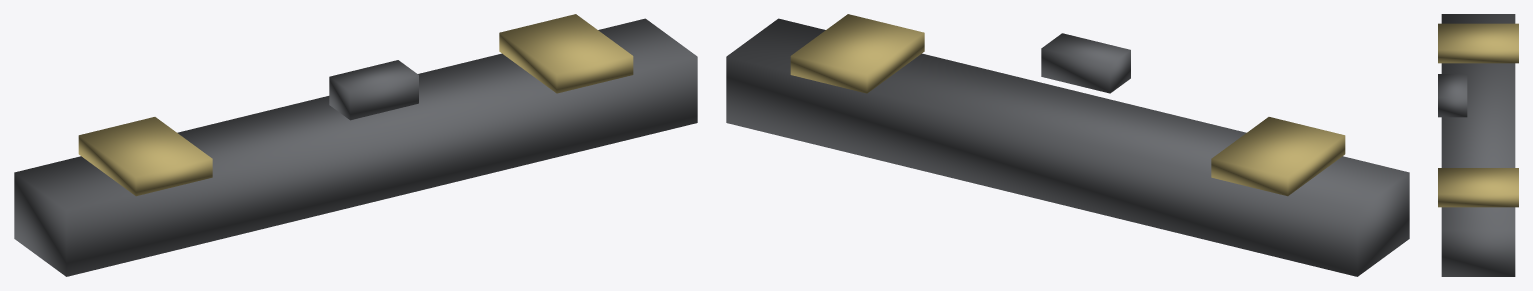
The model's file is wheel_stop_09.glb.
The picture shows the model from 3 angles, left to right: view 1: azimuth 30°, elevation 25°; view 2: azimuth 150°, elevation 25°; view 3: azimuth 270°, elevation 25°; orthographic projection. The views are drawn at different scales.
Visible parts, largest first — view 1: world; view 2: world; view 3: world.
Part boxes in pixels (x1,y1,x2,y2): world: (14, 14, 697, 276); world: (726, 14, 1409, 276); world: (1438, 14, 1518, 276).
Size of the model in its own units: 1.45 by 0.26 by 0.2288.
